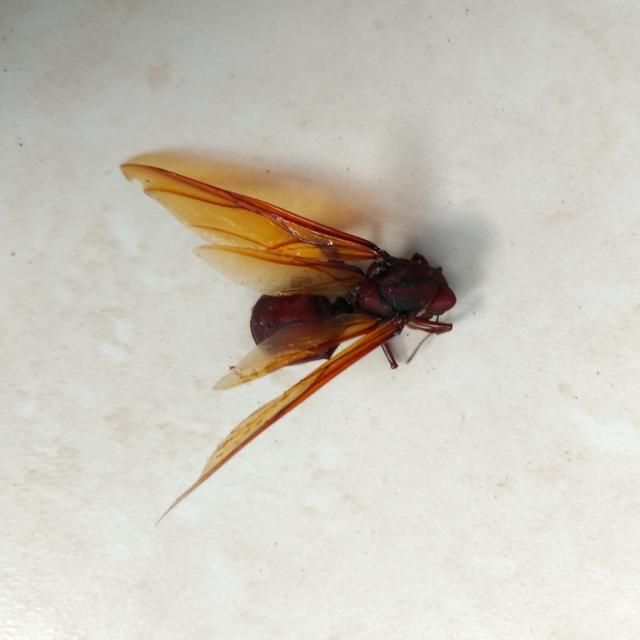Dead-Female-Alate: (119, 162, 457, 528)
